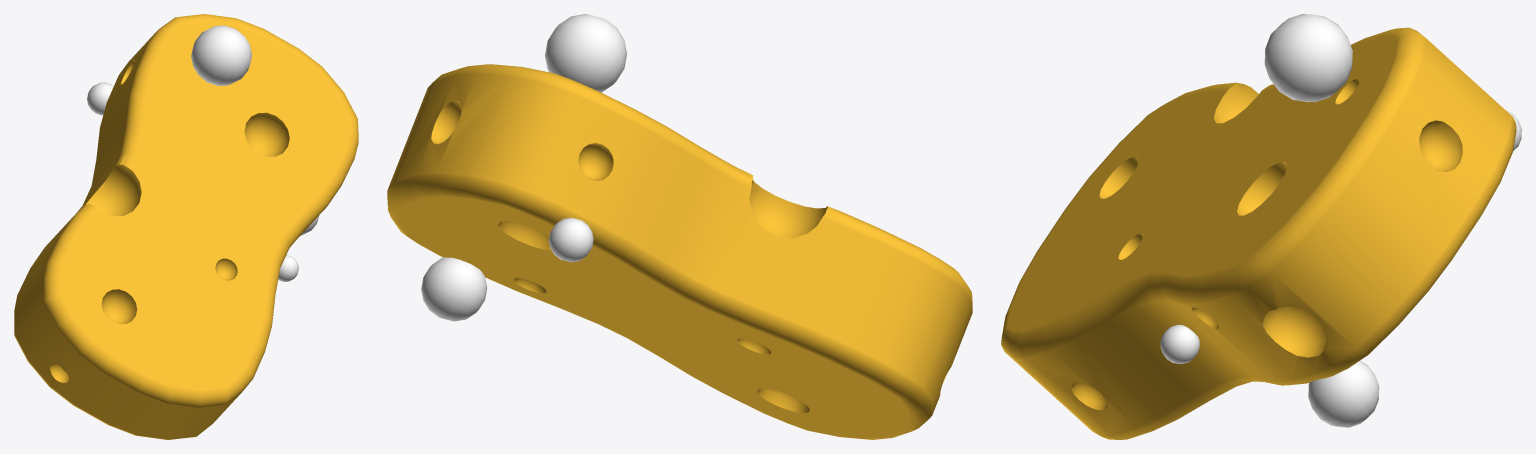
Rendered from sponge.glb.
3 renders of one model, left to right at view 1: azimuth 30°, elevation 25°; view 2: azimuth 150°, elevation 25°; view 3: azimuth 270°, elevation 25°, orthographic. The views are drawn at different scales.
Visible parts, largest first — view 1: Cube.1018; view 2: Cube.1018; view 3: Cube.1018.
Boxes of the visible parts, x1,y1,x2,y2 form: Cube.1018: (14,14,358,439); Cube.1018: (387,14,972,439); Cube.1018: (1001,14,1521,439).
Size of the model in its own units: 2.26 by 2.05 by 1.98.
1 material, 1 textured.
